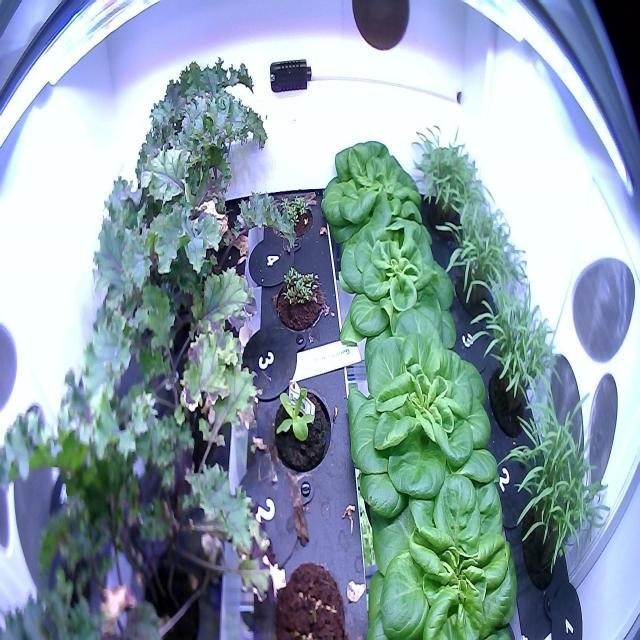germination: (272, 261, 328, 337), (269, 192, 314, 244)
pod: (268, 550, 349, 639)
young: (340, 304, 500, 531), (357, 461, 522, 640), (333, 196, 466, 359), (317, 129, 433, 250), (268, 372, 334, 478)
